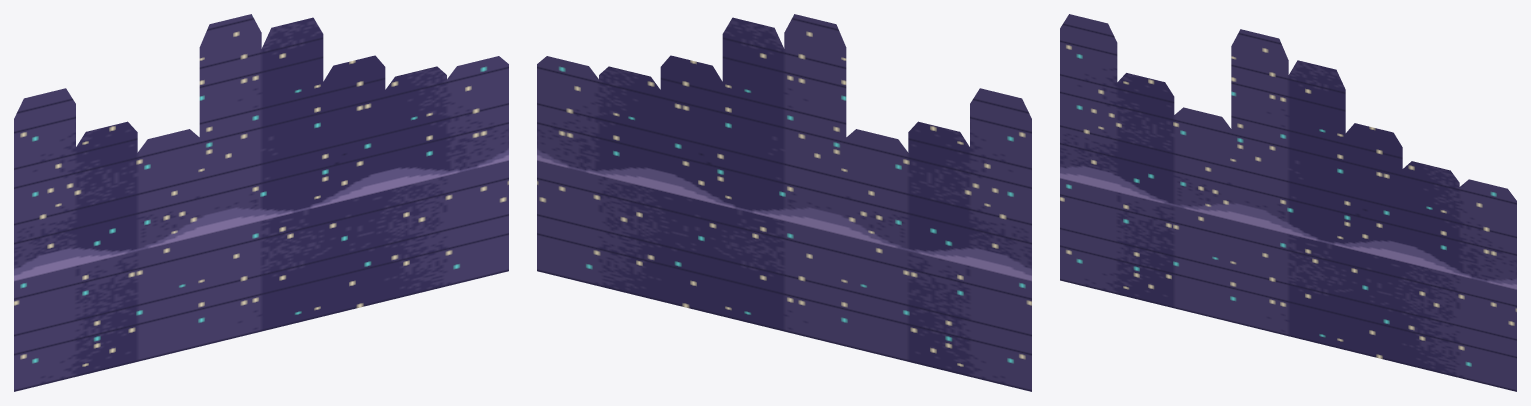
The model's file is cysky.far.glb.
The picture shows the model from 3 angles, left to right: view 1: azimuth 30°, elevation 25°; view 2: azimuth 150°, elevation 25°; view 3: azimuth 330°, elevation 25°; orthographic projection. The views are drawn at different scales.
Parts seen in each view (by area): view 1: kit_card_skyline; view 2: kit_card_skyline; view 3: kit_card_skyline.
Part boxes in pixels (x1,y1,x2,y2): kit_card_skyline: (14,14,508,391); kit_card_skyline: (537,14,1031,391); kit_card_skyline: (1060,14,1516,391).
Bounding box in the file's own units: 56 × 34.6 × 0.
1 material, 1 textured.
